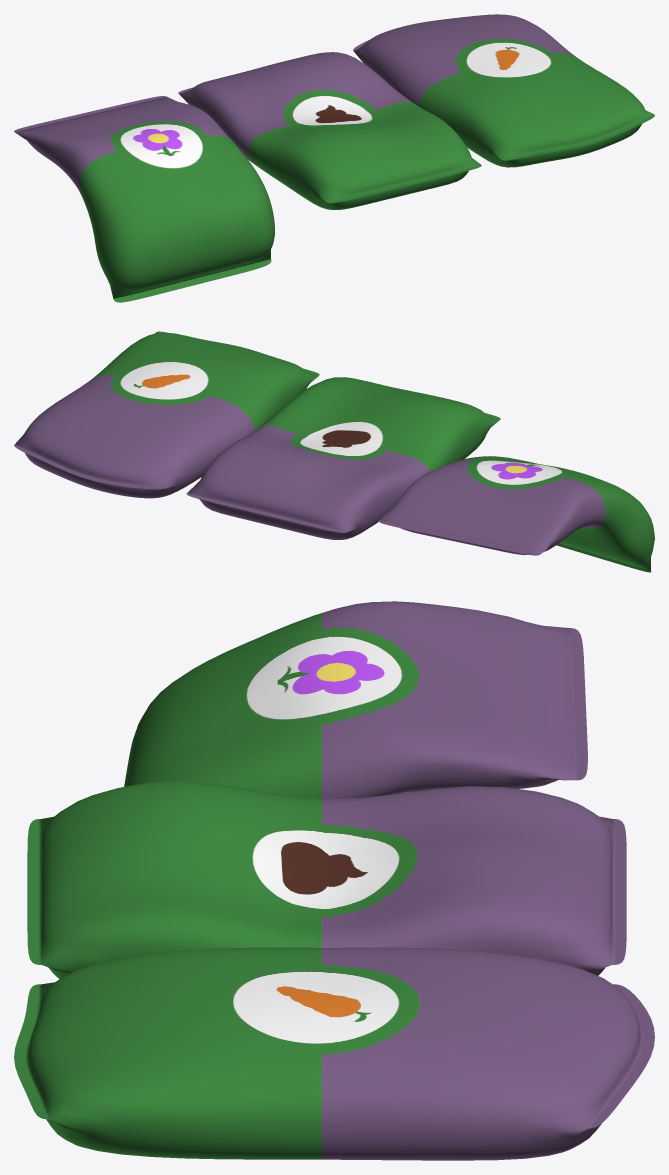
Rendered from Compost.fbx.
3 views of the same model, one above another, from view 1: azimuth 30°, elevation 25°; view 2: azimuth 150°, elevation 25°; view 3: azimuth 270°, elevation 25° (orthographic). The views are drawn at different scales.
Parts seen in each view (by area): view 1: Compost3, Compost1, Compost2; view 2: Compost1, Compost2, Compost3; view 3: Compost2, Compost1, Compost3.
Part boxes in pixels (<box>): Compost3: <box>14,96,274,302</box>; Compost1: <box>178,52,481,209</box>; Compost2: <box>353,14,654,167</box>; Compost1: <box>186,377,500,539</box>; Compost2: <box>14,331,319,498</box>; Compost3: <box>378,456,654,572</box>; Compost2: <box>14,947,654,1160</box>; Compost1: <box>27,780,626,978</box>; Compost3: <box>124,601,587,798</box>.
Size of the model in its own units: 535 by 115 by 298.
